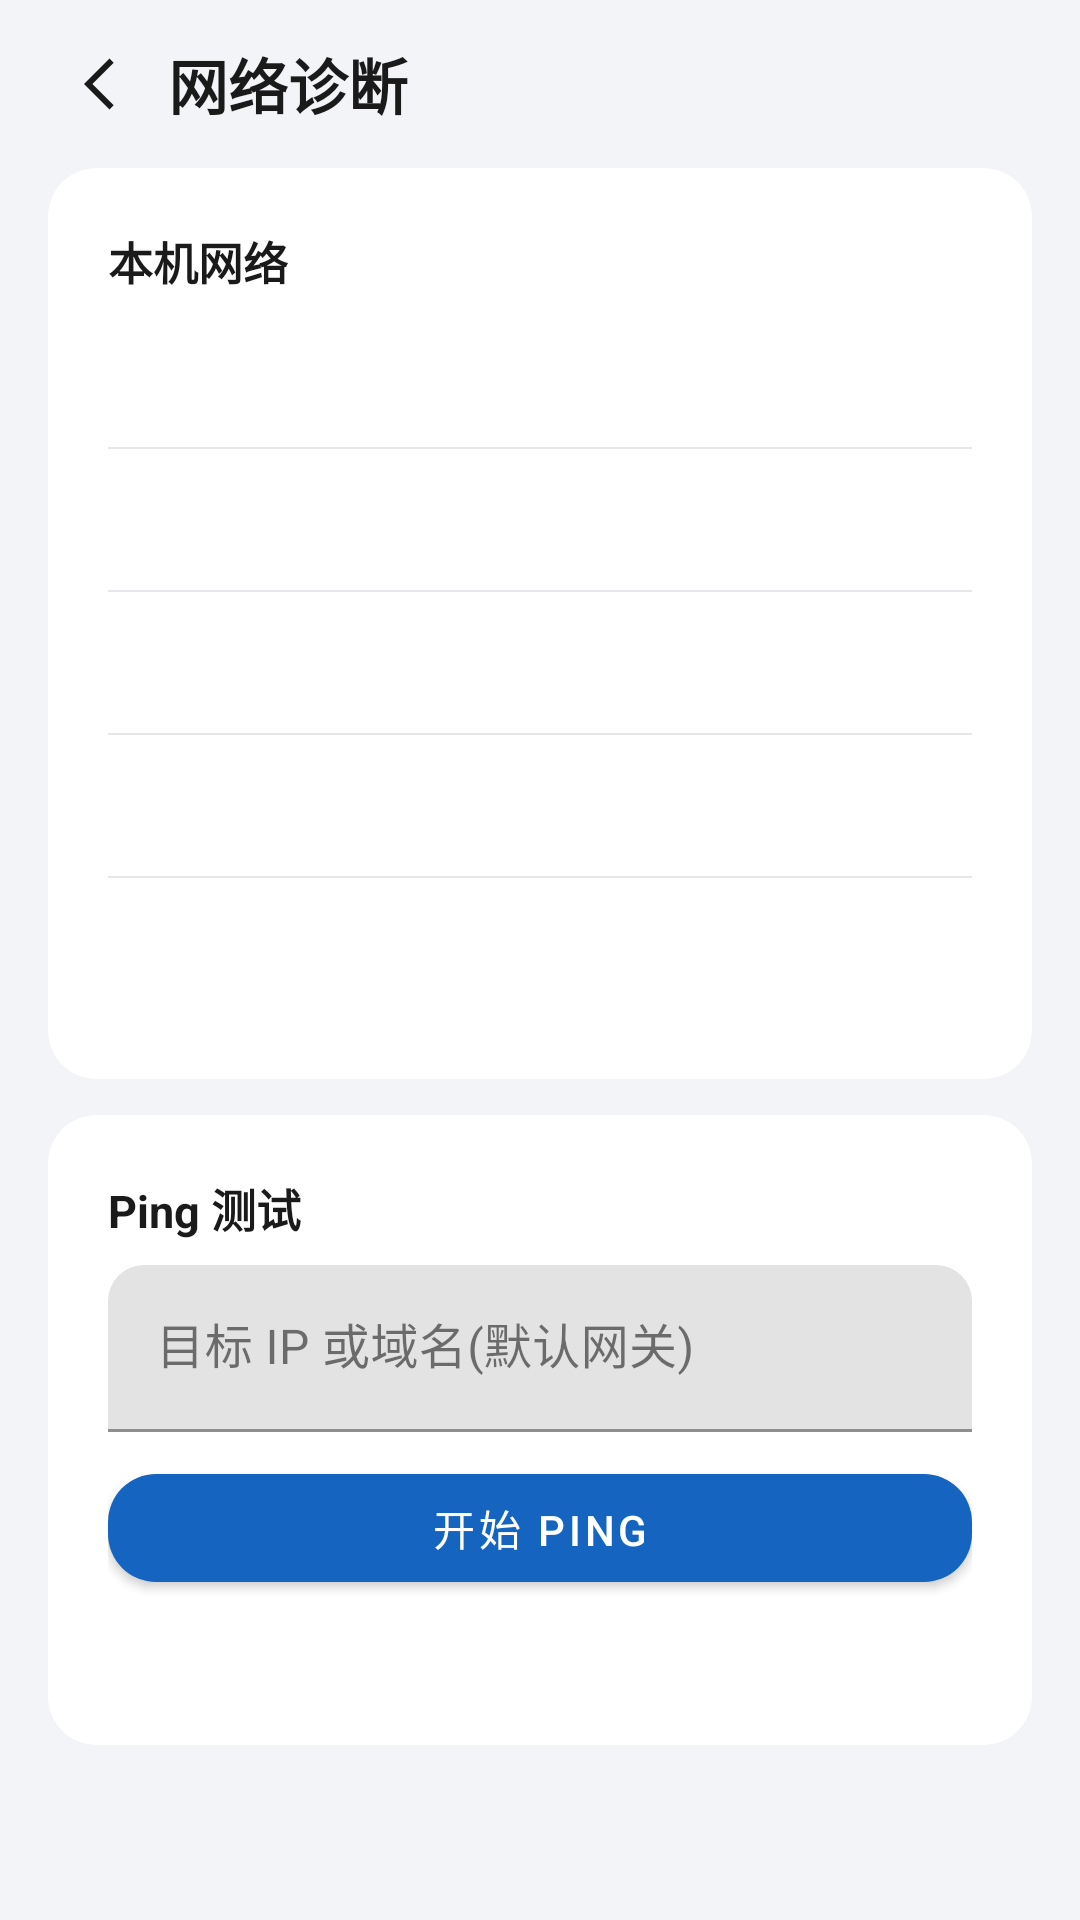

Icons on this 1080 x 1920 Android screen, each with its box as (x1, y1, x2, y2):
返回: (84, 58, 114, 110)
